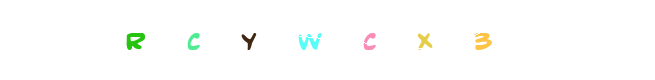3: (420, 0, 500, 80)
C: (143, 0, 223, 80), (287, 0, 367, 80)
R: (94, 0, 174, 80)
W: (267, 0, 347, 80)
X: (318, 0, 398, 80)
Y: (209, 0, 289, 80)
